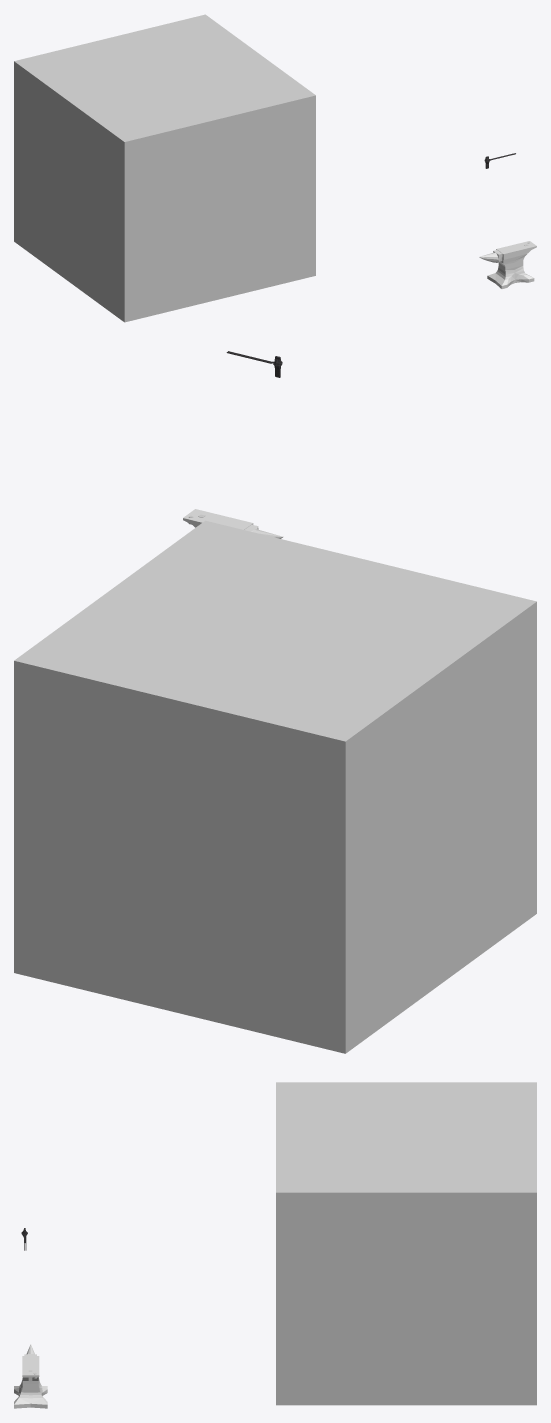
Rendered from hotsett.dae.
3 renders of one model, top to bottom at view 1: azimuth 30°, elevation 25°; view 2: azimuth 150°, elevation 25°; view 3: azimuth 270°, elevation 25°, orthographic. The views are drawn at different scales.
Parts seen in each view (by area): view 1: Cube_004, Cube_002; view 2: Cube_004, Cube_002; view 3: Cube_004, Cube_002.
Part boxes in pixels (left/top/right/bottom): Cube_004: left=14, top=14, right=315, bottom=322; Cube_002: left=479, top=241, right=536, bottom=288; Cube_004: left=14, top=520, right=536, bottom=1053; Cube_002: left=183, top=509, right=282, bottom=538; Cube_004: left=276, top=1082, right=536, bottom=1405; Cube_002: left=14, top=1344, right=47, bottom=1408.
Size of the model in its own units: 3.18 by 4.01 by 1.81.
1 material, 1 textured.
